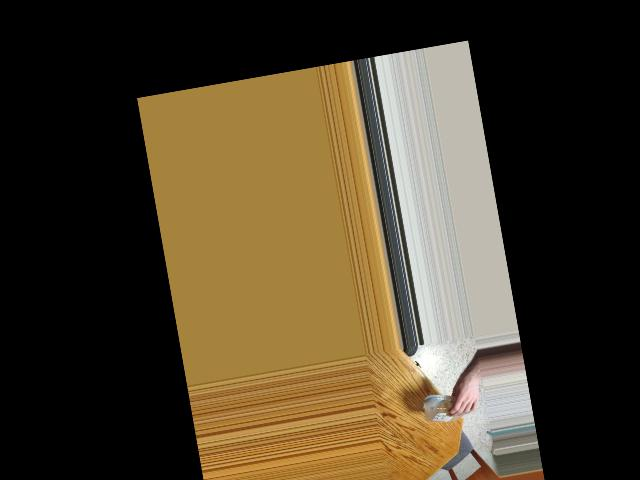cheese: (429, 386, 471, 425)
